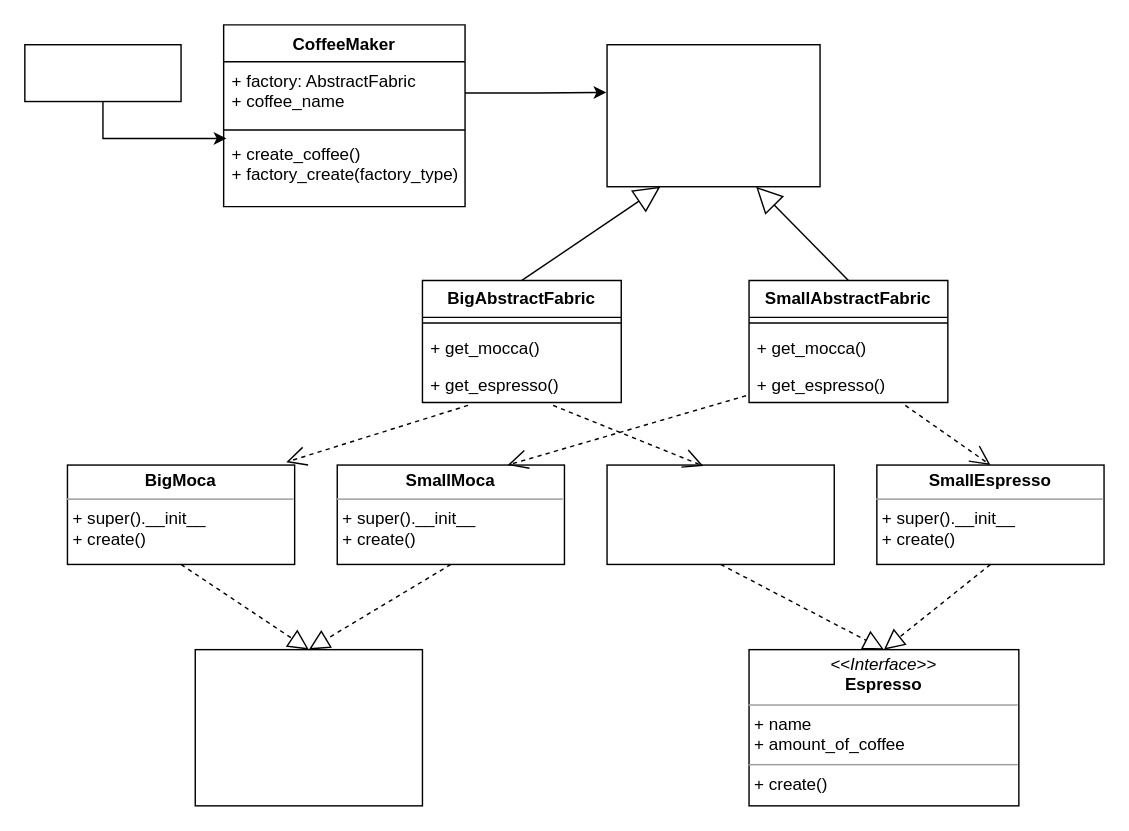
Image size: 1129x831. Some labels were removed from this diagram. Each missing label, with the box of its shape:
<<Interface>> AbstractFabric + get_espresso() + get_mocca(): (606, 43, 820, 187)
<<Interface>> Mocca + name + amount_of_coffee + create(): (194, 648, 422, 806)
BigEspresso + super().__init__ + create(): (606, 464, 834, 564)
Client: (23, 43, 181, 102)
